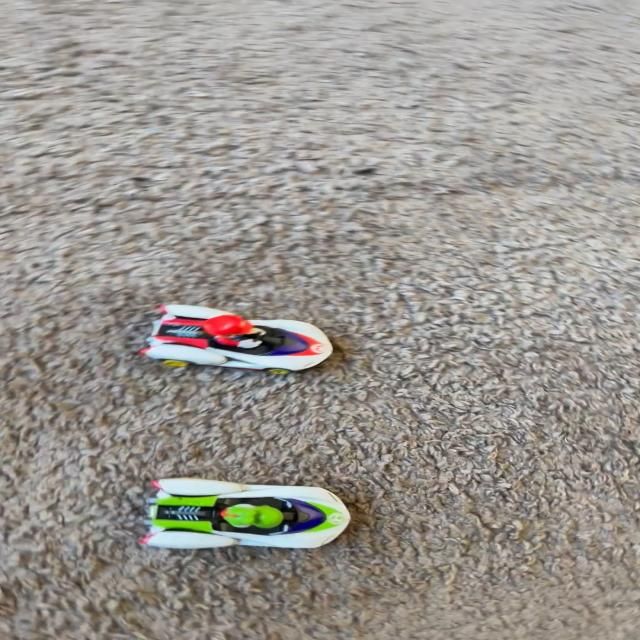mario: (133, 294, 350, 389)
yoshi: (127, 448, 365, 568)
